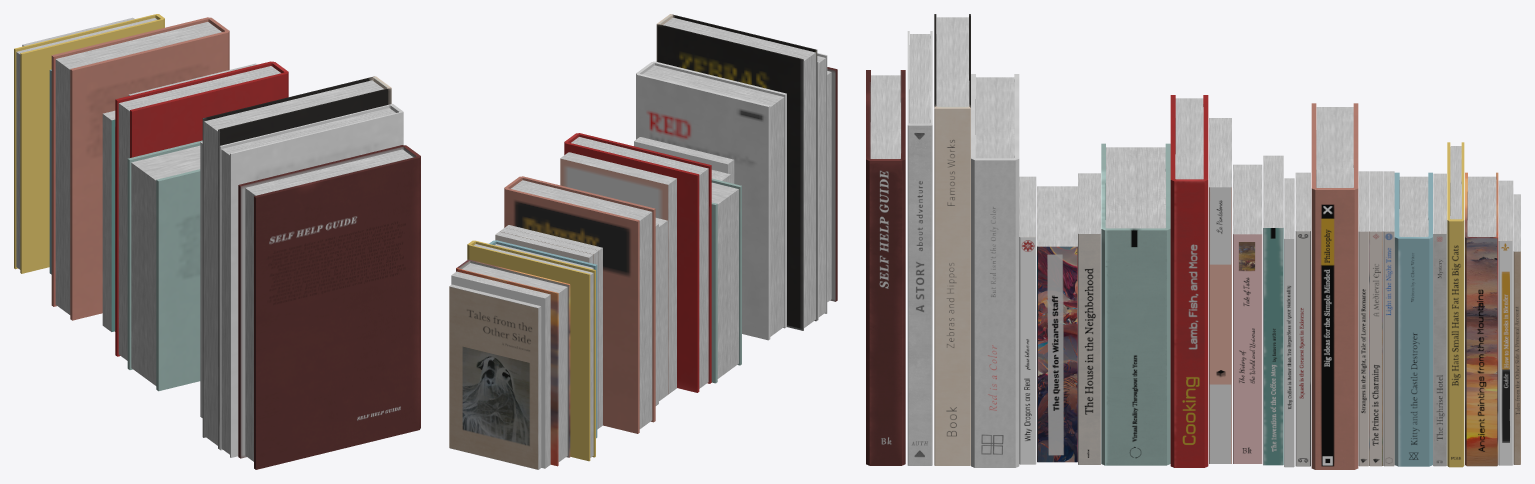
File: books.glb
3 renders of one model, left to right at view 1: azimuth 30°, elevation 25°; view 2: azimuth 150°, elevation 25°; view 3: azimuth 270°, elevation 25°, orthographic. The views are drawn at different scales.
Visible parts, largest first — view 1: Cube; view 2: Cube; view 3: Cube.
Part boxes in pixels (x1,y1,x2,y2): Cube: (14,14,420,469); Cube: (449,14,837,469); Cube: (866,14,1520,469).
Size of the model in its own units: 1.46 by 2.46 by 4.09.
1 material, 1 textured.
